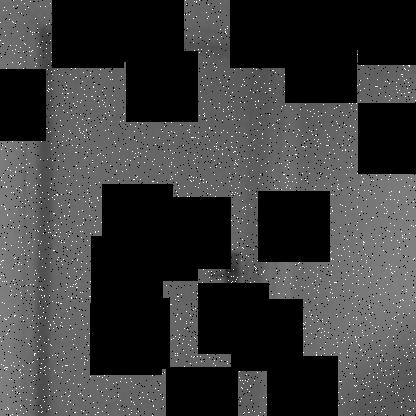Porte: (16, 8, 289, 416)
